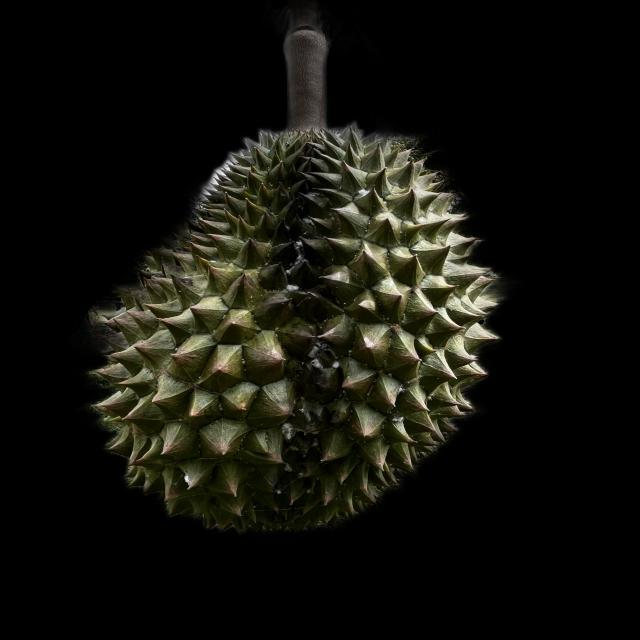immature: (95, 125, 510, 533)
